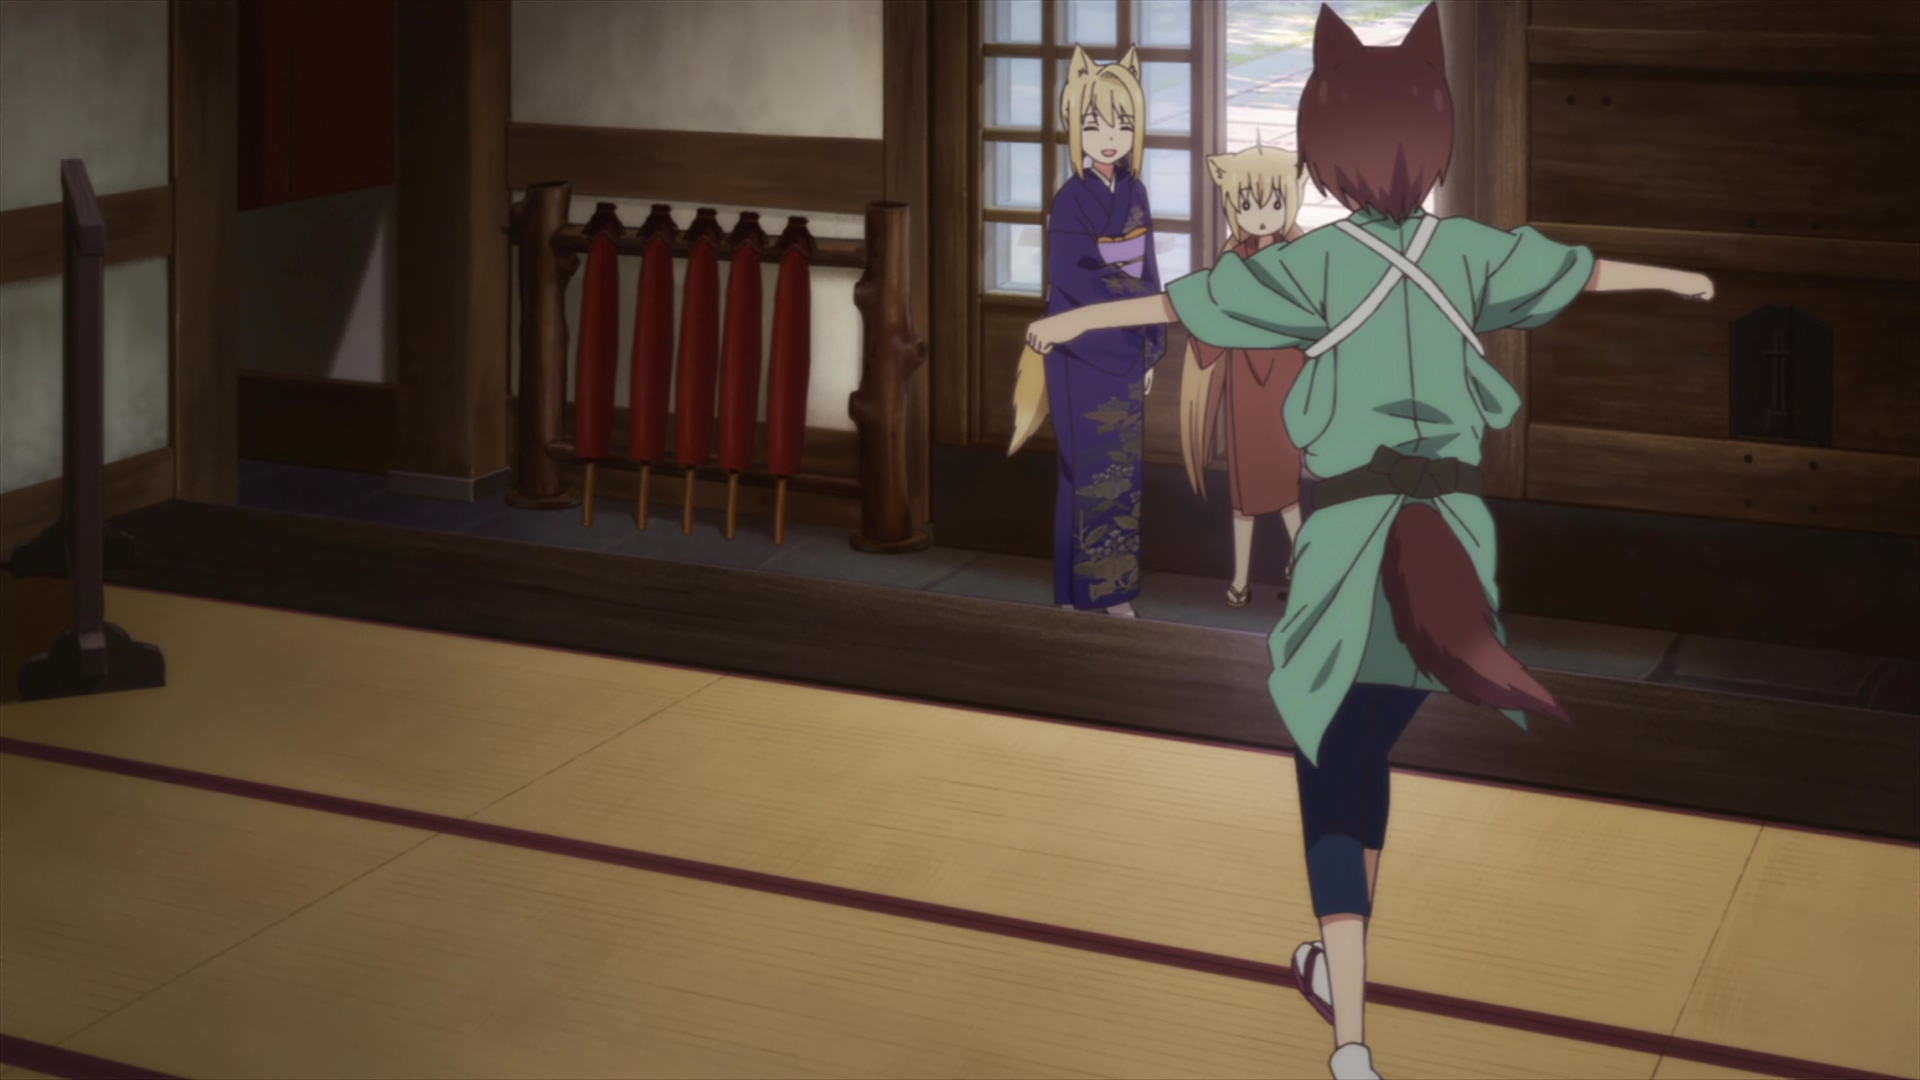枣: (1006, 1, 1717, 1080)
柚: (1182, 124, 1317, 611)
桐: (1007, 44, 1162, 622)
